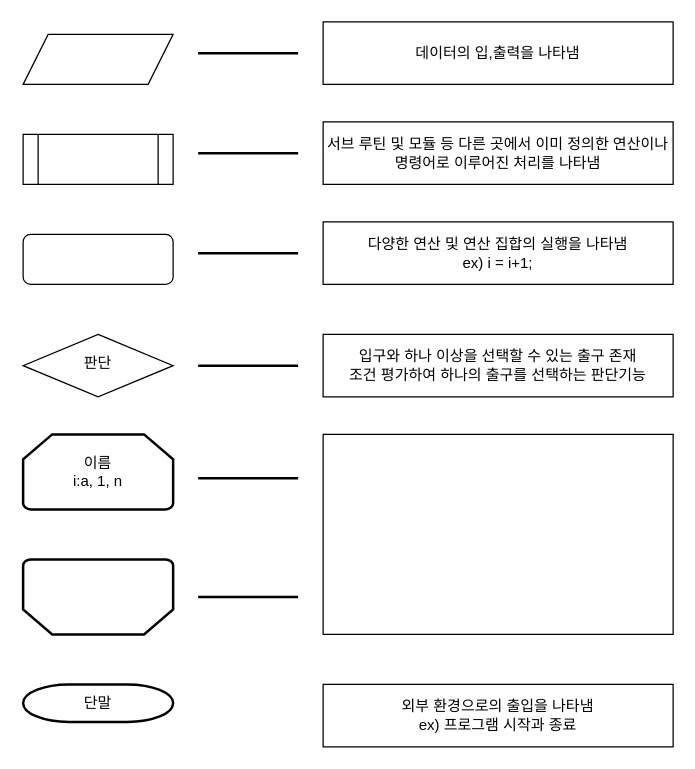
The diagram is 695 pixels wide and 769 high, and some of its shapes have lost their labels. The shapes that lost their labels are listed below. From the top down, each one's centre as x and y in pixels, then its label:
[97,58]: 데이터
[97,158]: 미리 정의한 처리
[97,258]: 처리
[497,533]: 루프 범위 반복문의 시작과 종료를 나타내며 i:a, 1, n처럼 각각 초깃값 증가값 종료조건을 표기하며 루프 안쪽엔 처리가 들어간다
